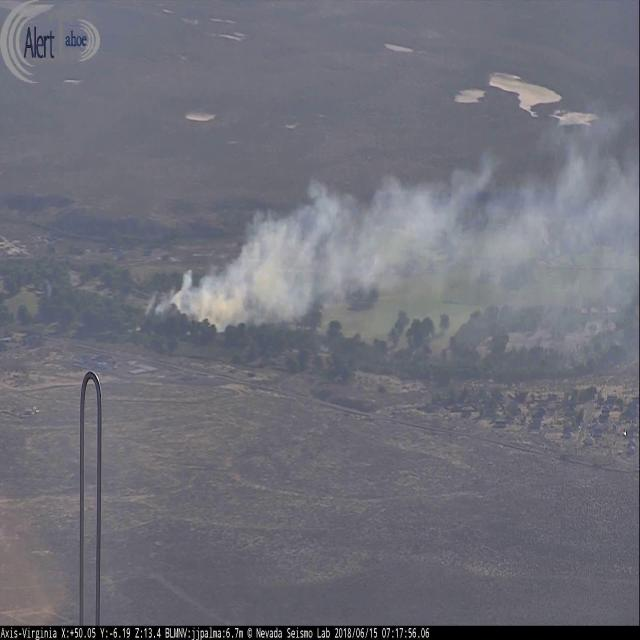smoke: (130, 117, 640, 339)
